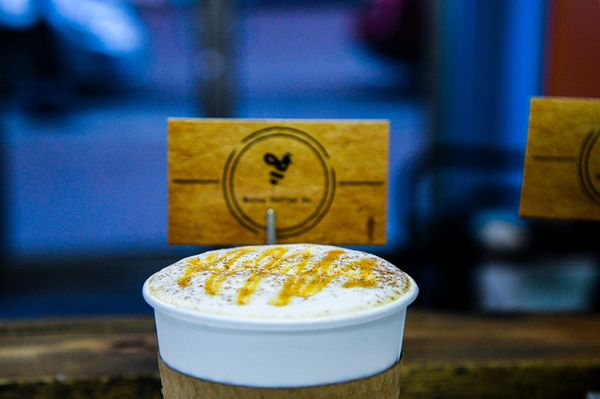sushi: (142, 242, 419, 392)
